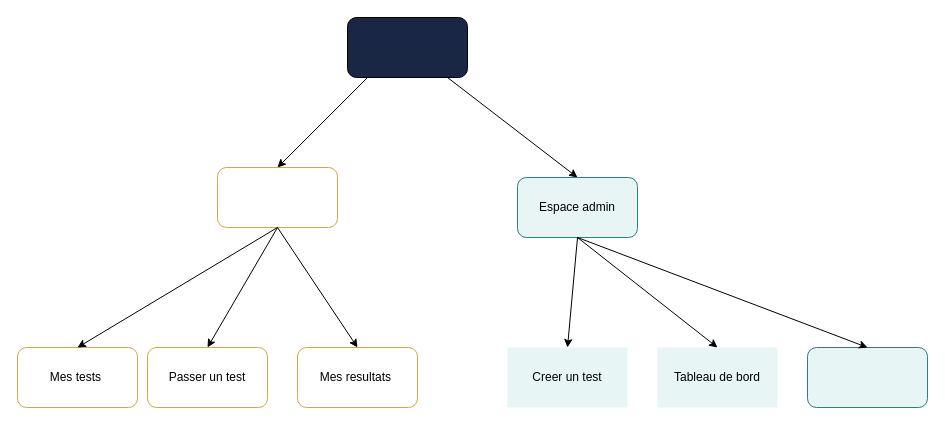
The diagram is 945 pixels wide and 425 high, and some of its shapes have lost their labels. Here are the shapes that lost their labels. From the top down, the centre of each, then its label:
(407,47): Page de connexion login
(277,197): Espace intervenante
(867,377): Gestion users
